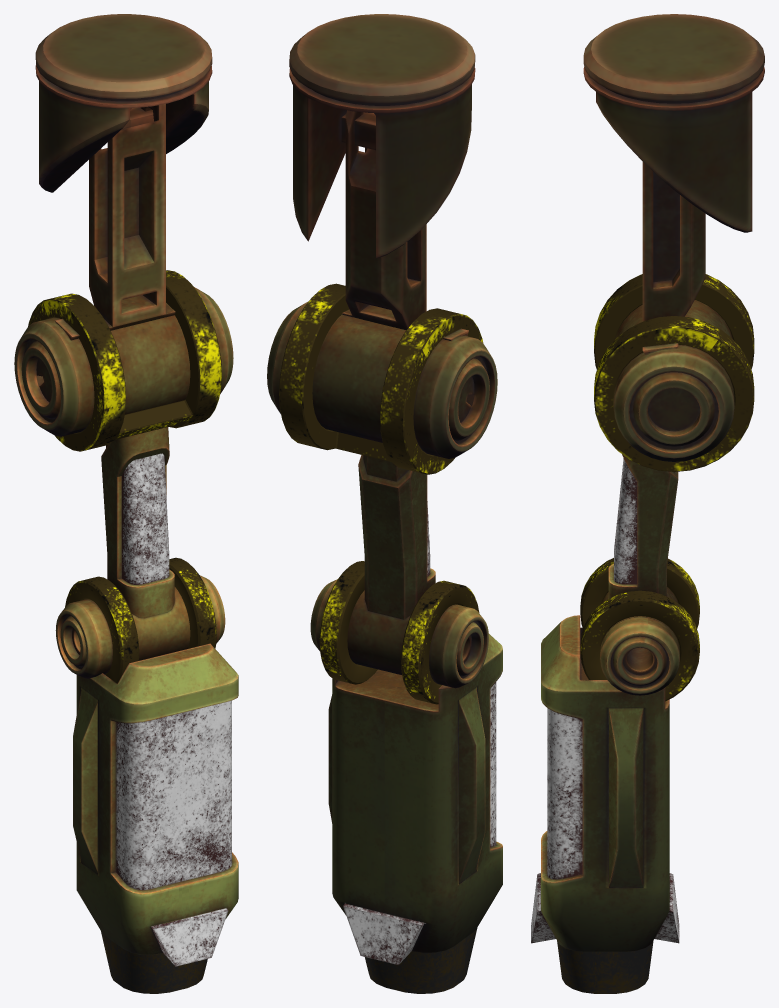
File: MountedCamera.fbx
3 views of the same model, side by side, from view 1: azimuth 30°, elevation 25°; view 2: azimuth 150°, elevation 25°; view 3: azimuth 270°, elevation 25° (orthographic). The views are drawn at different scales.
Visible parts, largest first — view 1: Camera_low, RoofConnector_low, BaseRod_low, TopCylinder_low, TopCylinderAccent_low, PivotConnector_low, BottomCylinder_low, BottomCylinderAccent_low; view 2: Camera_low, RoofConnector_low, TopCylinder_low, TopCylinderAccent_low, BaseRod_low, PivotConnector_low, BottomCylinder_low, BottomCylinderAccent_low; view 3: Camera_low, RoofConnector_low, TopCylinderAccent_low, TopCylinder_low, BaseRod_low, BottomCylinderAccent_low, PivotConnector_low, BottomCylinder_low.
Boxes of the visible parts, x1,y1,x2,y2 form: Camera_low: [73, 643, 238, 993]; RoofConnector_low: [35, 14, 212, 192]; BaseRod_low: [55, 104, 205, 340]; TopCylinder_low: [14, 287, 233, 436]; TopCylinderAccent_low: [28, 270, 221, 451]; PivotConnector_low: [101, 427, 174, 618]; BottomCylinder_low: [55, 575, 225, 678]; BottomCylinderAccent_low: [65, 557, 216, 683]; Camera_low: [328, 634, 502, 993]; RoofConnector_low: [289, 14, 475, 257]; TopCylinder_low: [267, 301, 497, 458]; TopCylinderAccent_low: [279, 283, 483, 474]; BaseRod_low: [342, 110, 468, 341]; PivotConnector_low: [358, 455, 435, 619]; BottomCylinder_low: [310, 579, 488, 688]; BottomCylinderAccent_low: [319, 561, 479, 704]; Camera_low: [531, 615, 679, 993]; RoofConnector_low: [583, 14, 764, 232]; TopCylinderAccent_low: [594, 274, 754, 471]; TopCylinder_low: [613, 300, 734, 461]; BaseRod_low: [642, 162, 705, 354]; BottomCylinderAccent_low: [580, 558, 699, 701]; PivotConnector_low: [608, 454, 678, 598]; BottomCylinder_low: [600, 587, 679, 695].
Bounding box in the file's own units: 83.61 × 97.09 × 425.
